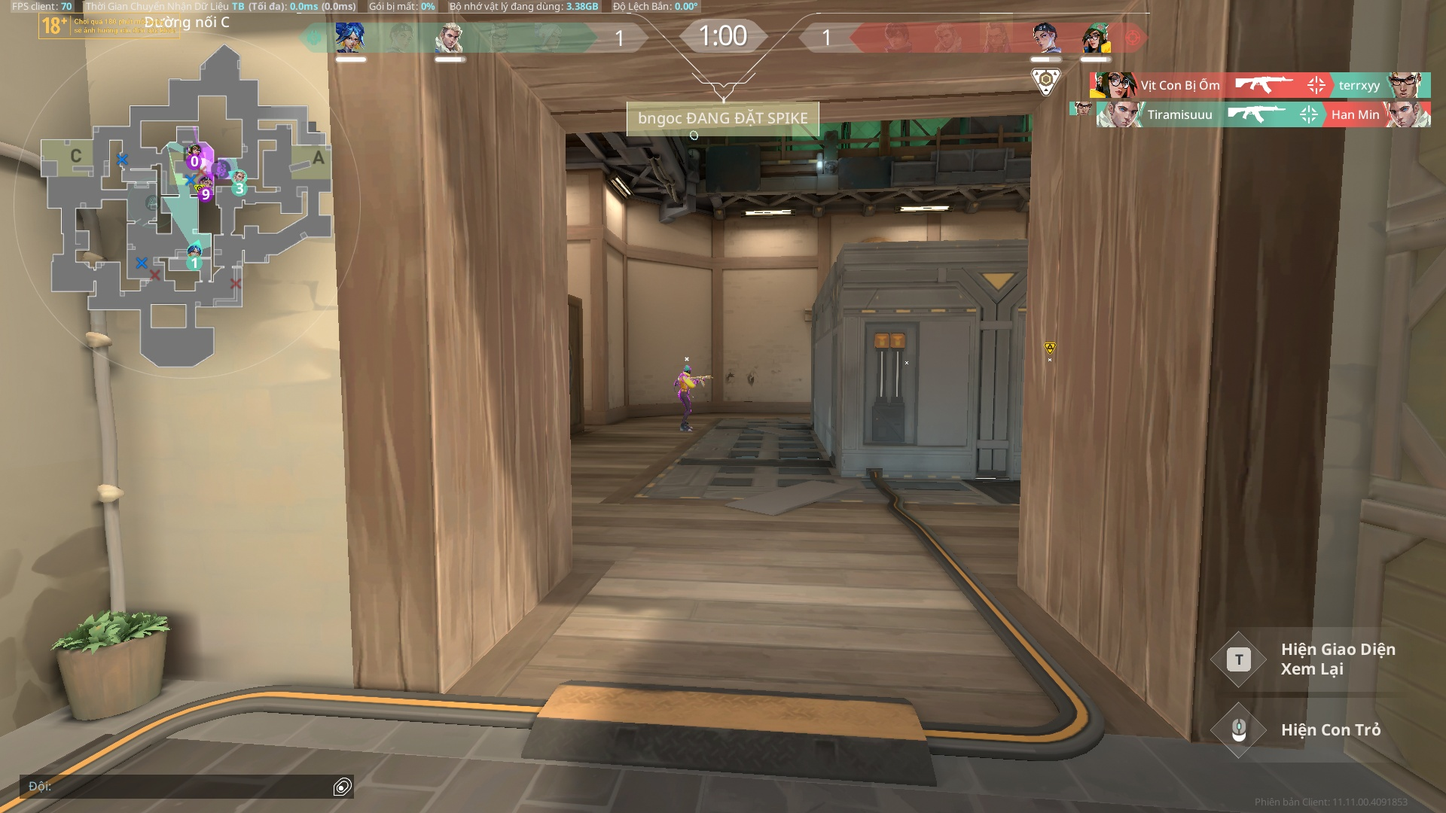body: (677, 370, 694, 391)
head: (683, 365, 691, 373)
